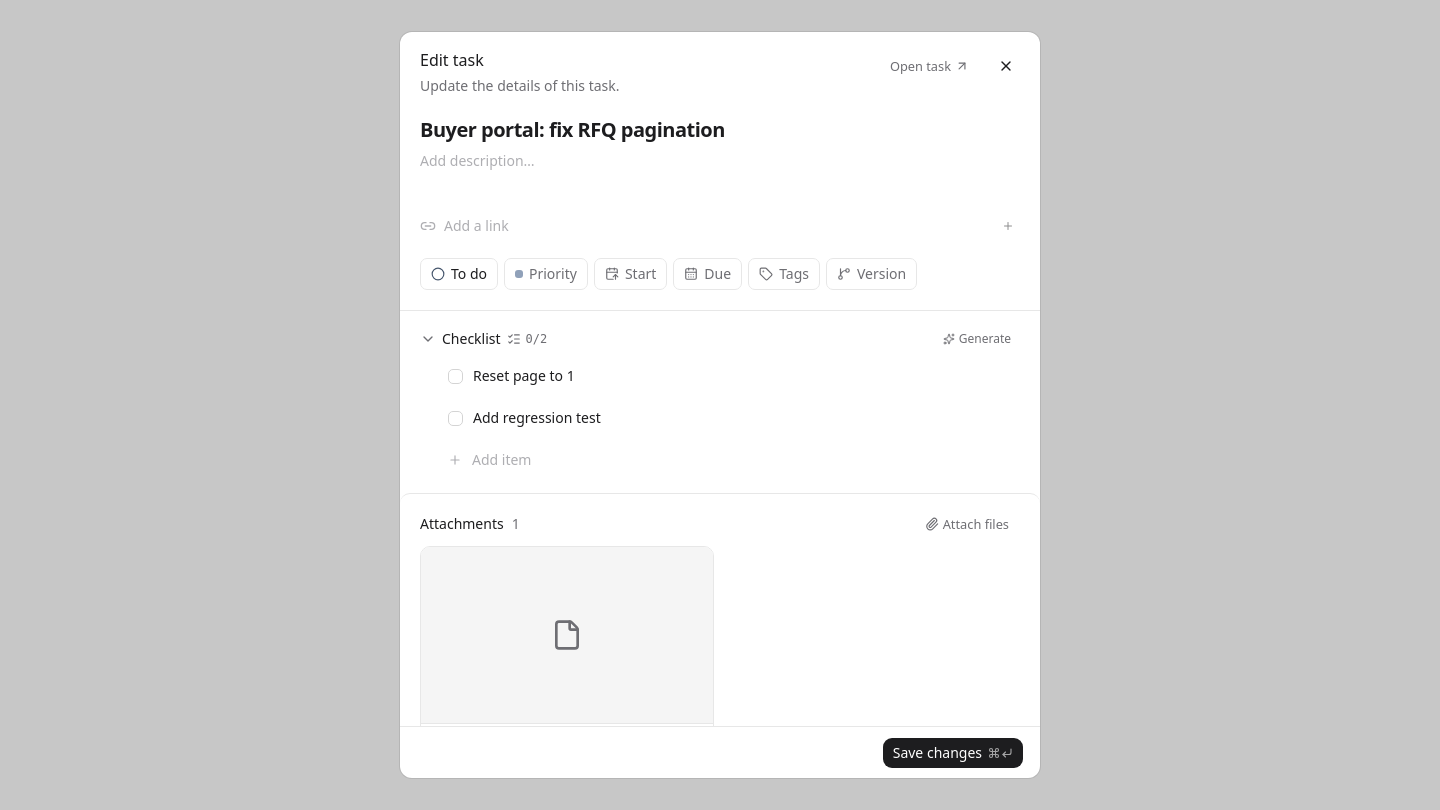
it: TodoChecklist (in TaskDialog) › toggles an item and updates the progress count
Check: the button "Reset page to 1" is shown, box x1=473 y1=366 x2=982 y2=386
Check: the element named "Checklist 0 of 2 done" is shown, box x1=507 y1=331 x2=547 y2=347
Click the checkbox named "Mark \"Reset page to 1\" done" at (456, 376), box x1=448 y1=368 x2=463 y2=384
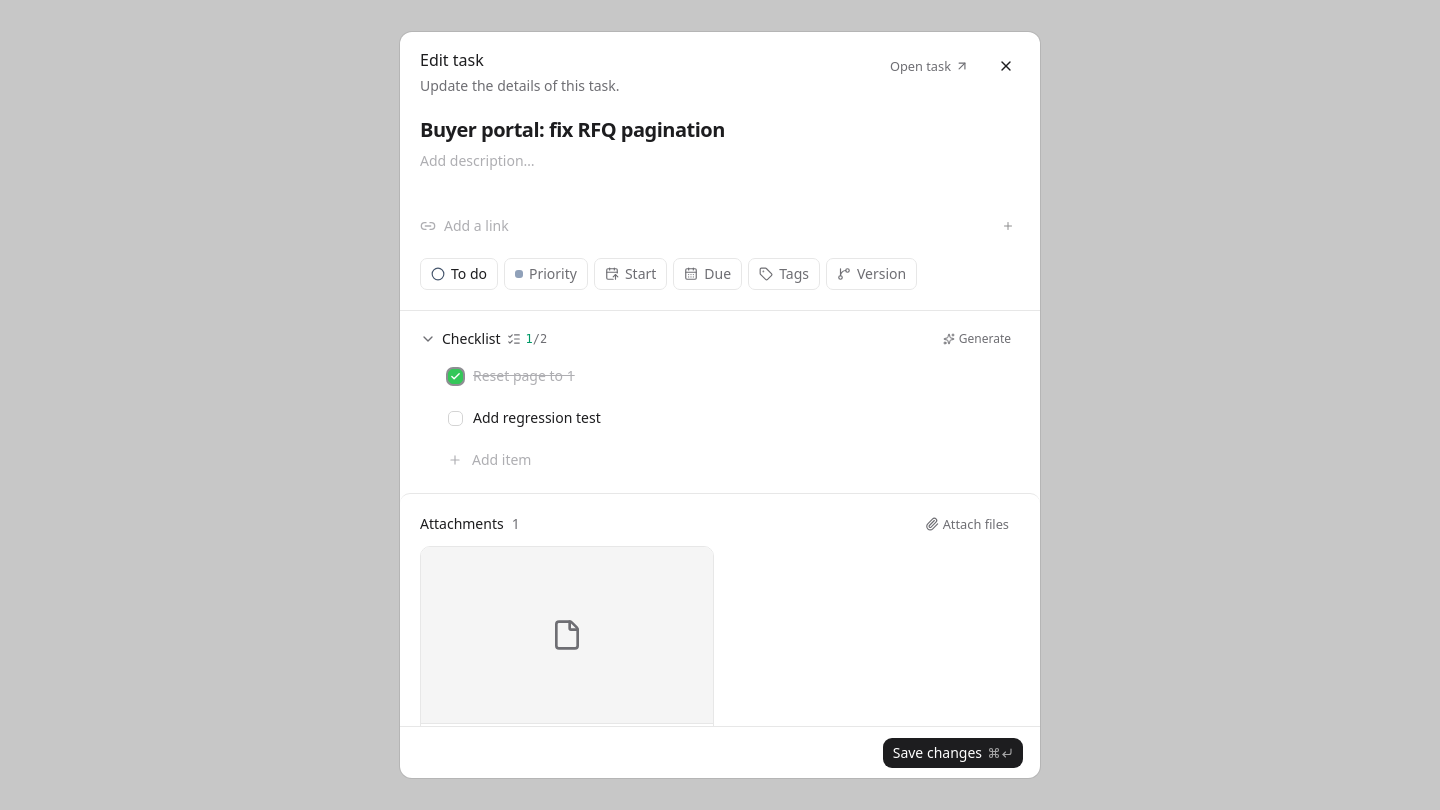
Check: the element named "Checklist 1 of 2 done" is shown, box x1=507 y1=331 x2=547 y2=347
